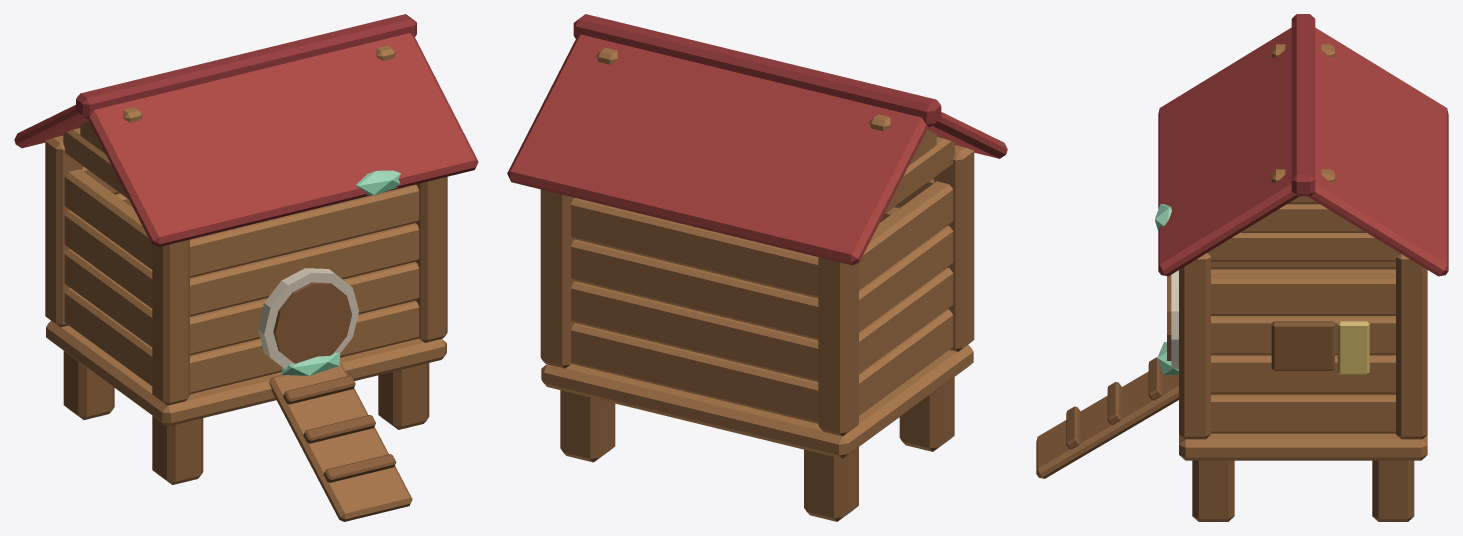
Rendered from ranch_slime_coop.fbx.
The picture shows the model from 3 angles, left to right: view 1: azimuth 30°, elevation 25°; view 2: azimuth 150°, elevation 25°; view 3: azimuth 270°, elevation 25°; orthographic projection. The views are drawn at different scales.
Parts seen in each view (by area): view 1: ranch_slime_coop; view 2: ranch_slime_coop; view 3: ranch_slime_coop.
Boxes of the visible parts, x1=… form: ranch_slime_coop: x1=14, y1=14, x2=478, y2=521; ranch_slime_coop: x1=507, y1=14, x2=1007, y2=521; ranch_slime_coop: x1=1036, y1=14, x2=1448, y2=521.
Bounding box in the file's own units: 7.4 × 7.69 × 7.8.
